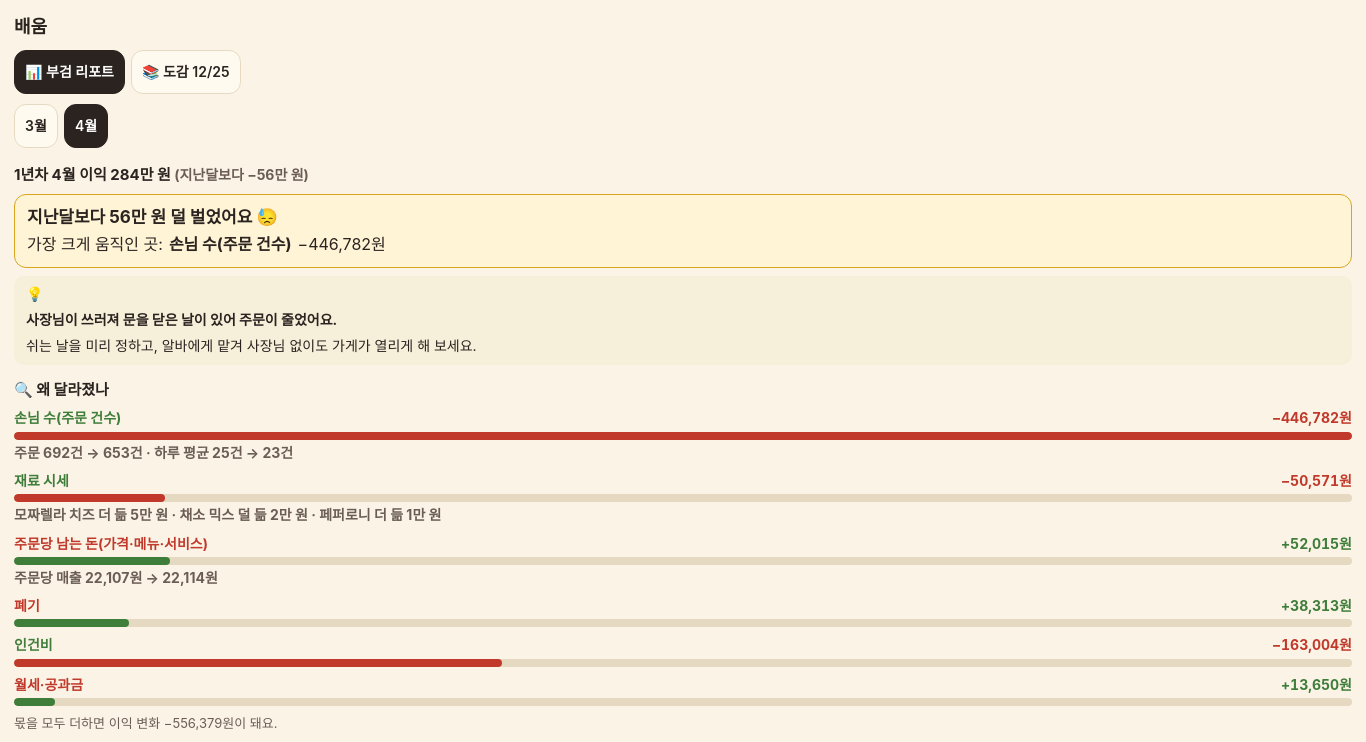
Scenario: 도감: 연 카드는 내 숫자와 설명, 못 연 카드는 여는 법
The image size is (1366, 742).
Click the button "📚 도감 12/25": (186, 72) [131, 50, 240, 94]
(page scrolled)
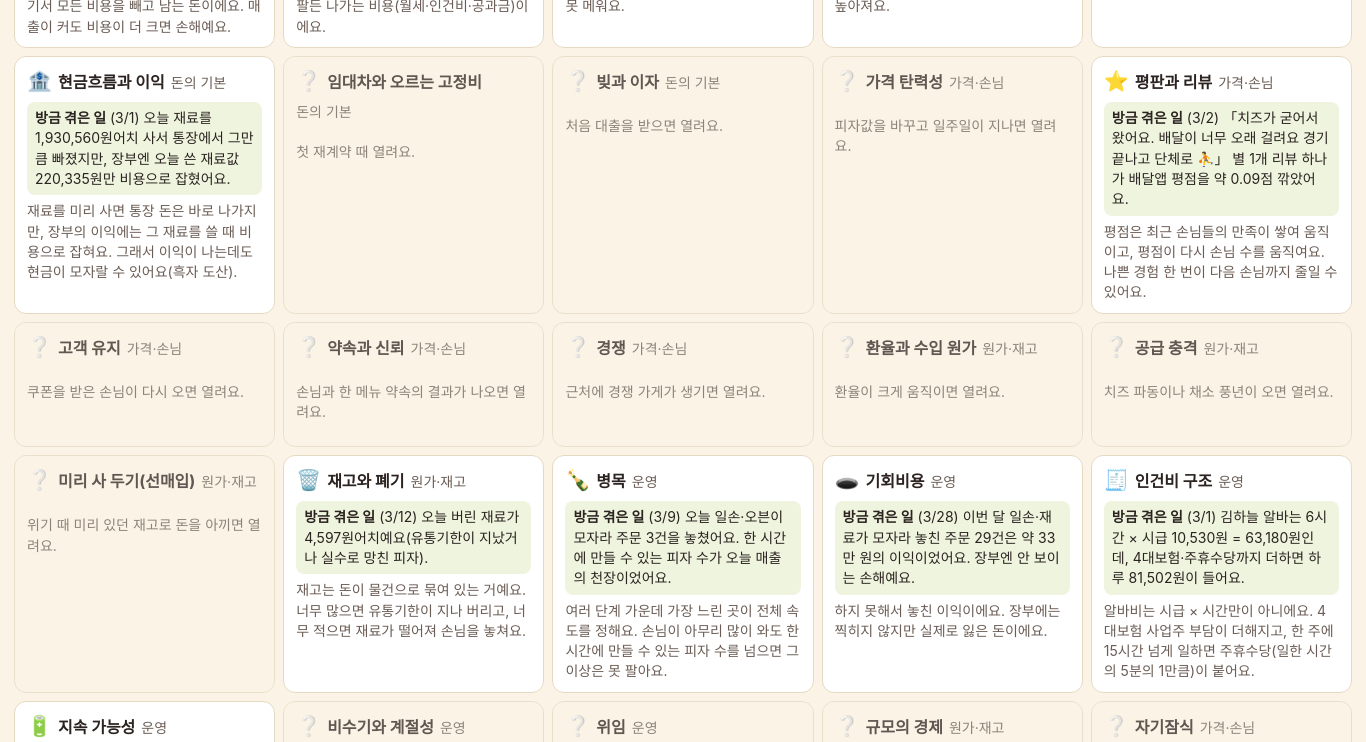
Expected: the number of list items is 25
Expected: the list item "❔ 약속과 신뢰 가격·손님 손님과 한 메뉴 약속의 결과가 나오면 열려요." is shown, [283, 322, 544, 447]
